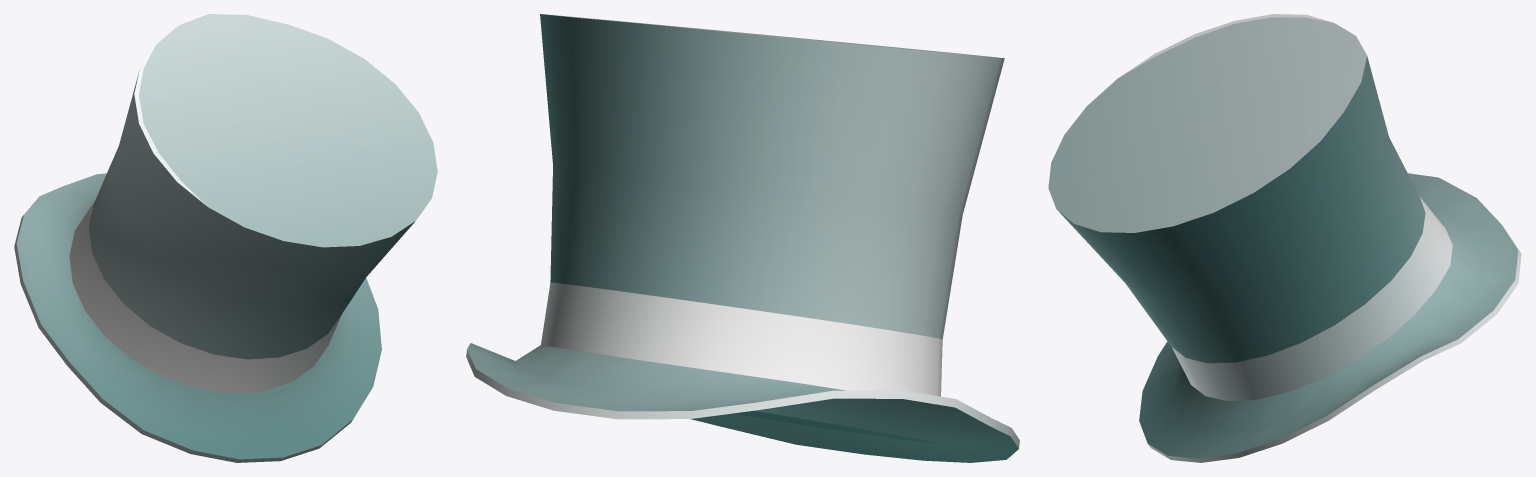
File: Integrity_Hat.fbx
3 renders of one model, left to right at view 1: azimuth 30°, elevation 25°; view 2: azimuth 150°, elevation 25°; view 3: azimuth 270°, elevation 25°, orthographic. The views are drawn at different scales.
Parts seen in each view (by area): view 1: Integrity_Hat; view 2: Integrity_Hat; view 3: Integrity_Hat.
Part boxes in pixels (<box>): Integrity_Hat: <box>14,14,437,462</box>; Integrity_Hat: <box>466,14,1019,462</box>; Integrity_Hat: <box>1048,14,1521,462</box>.
Bounding box in the file's own units: 12.78 × 13.23 × 14.6.
